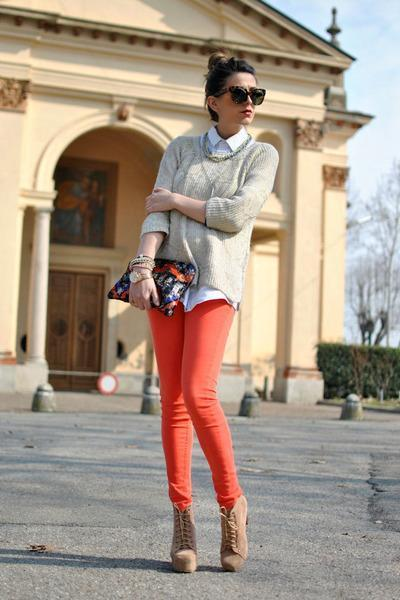bag: (149, 231, 199, 315)
pants: (146, 299, 240, 518)
shirt: (152, 113, 278, 310)
shoe: (167, 492, 251, 573)
sunglass: (231, 86, 265, 107)
